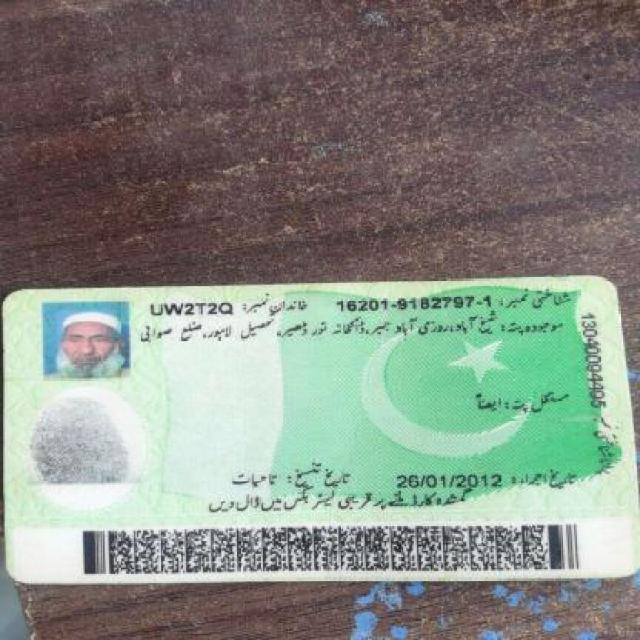Back: (4, 278, 634, 582)
